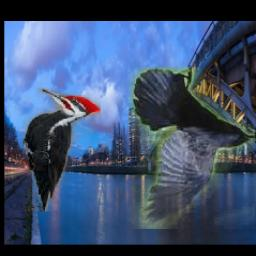Crow: (129, 68, 255, 230)
Woodpecker: (24, 87, 102, 211)
